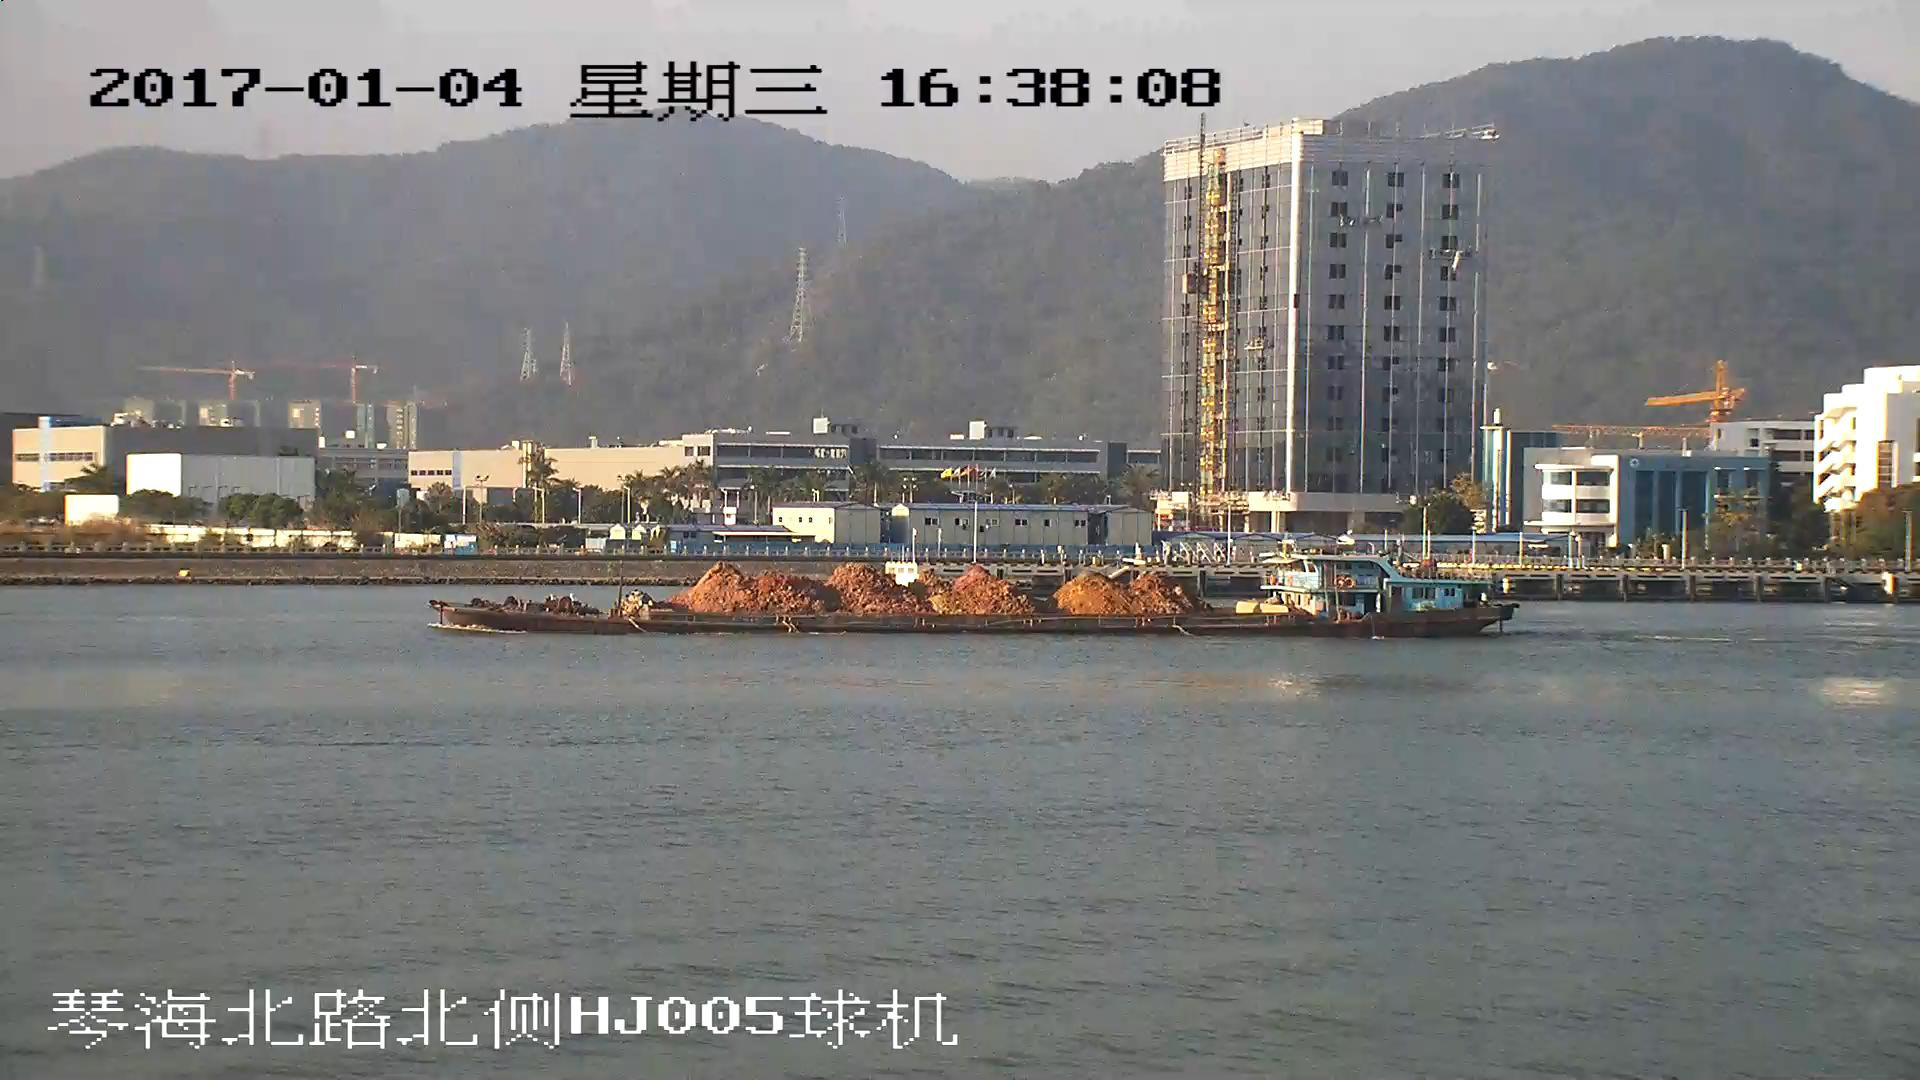ore carrier: (440, 551, 1514, 637)
